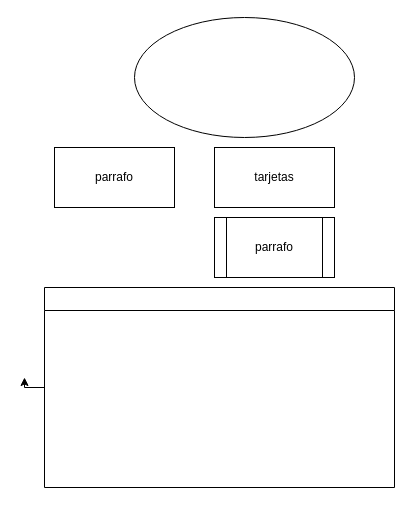
The diagram is 412 pixels wide and 505 high, and some of its shapes have lost their labels. The shapes that lost their labels are listed below. From the top down, each one's centre as x and y in pixels, then its label:
the point at 244,77: barra de navegacion
the point at 219,387: carrucel
